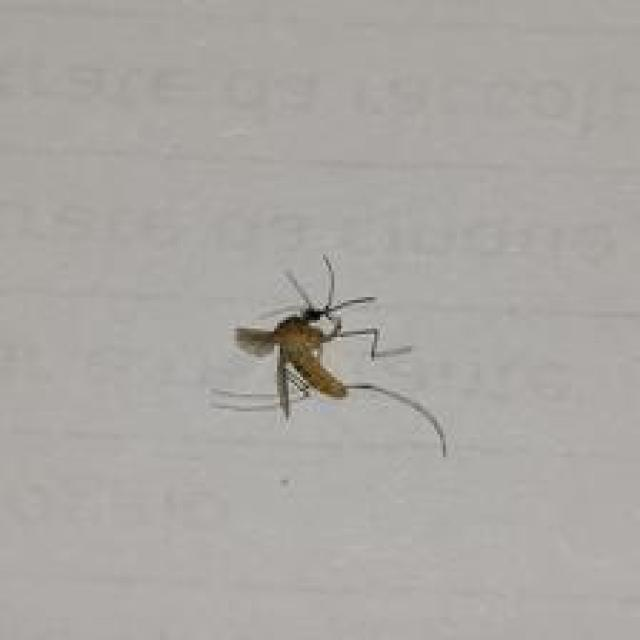Culex: (208, 253, 448, 458)
